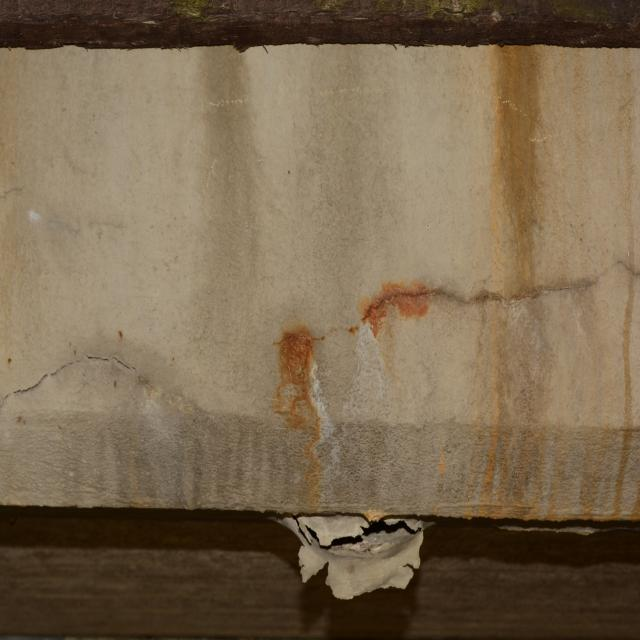corrosion: (468, 49, 640, 528), (272, 296, 341, 504), (349, 265, 462, 352)
